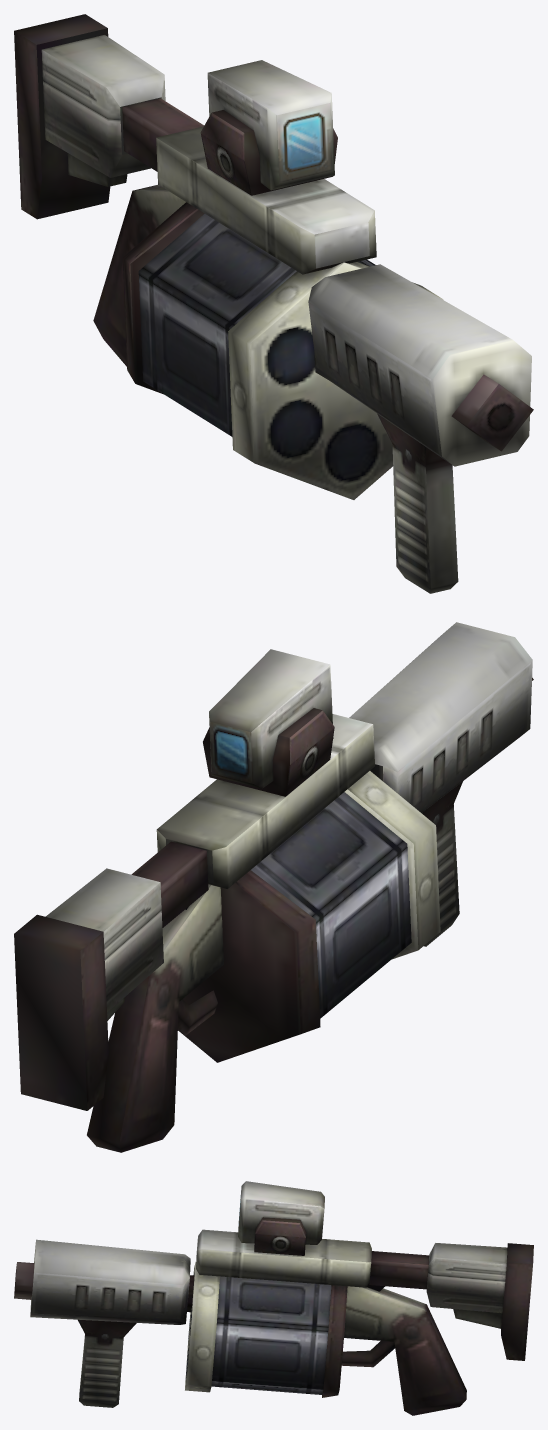
Rendered from Weapon_Grenade_Launcher_0386490c__Weapon_Grenade_Launcher_e30bc286_c1f257.obj.
The picture shows the model from 3 angles, top to bottom: view 1: azimuth 30°, elevation 25°; view 2: azimuth 150°, elevation 25°; view 3: azimuth 270°, elevation 25°; orthographic projection. The views are drawn at different scales.
Bounding box in the file's own units: 0.325 × 0.6251 × 1.34.
1 material, 1 textured.
